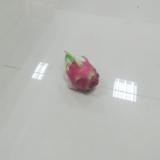pitaya: (63, 50, 100, 93)
